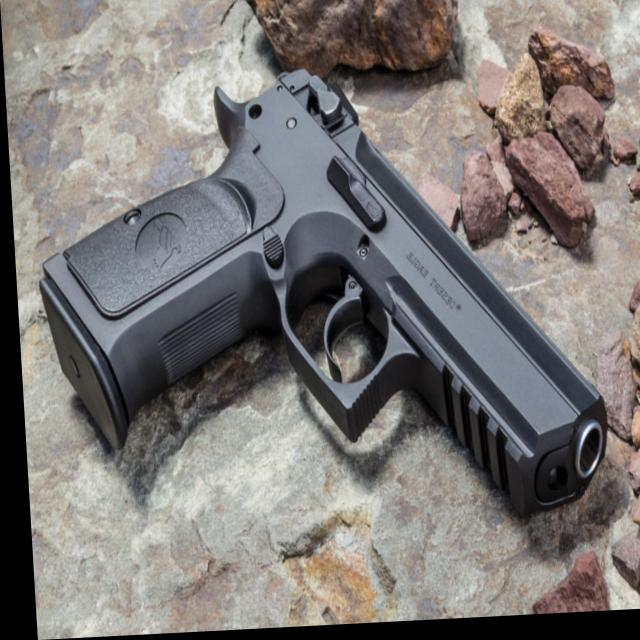handgun: (22, 54, 629, 537)
